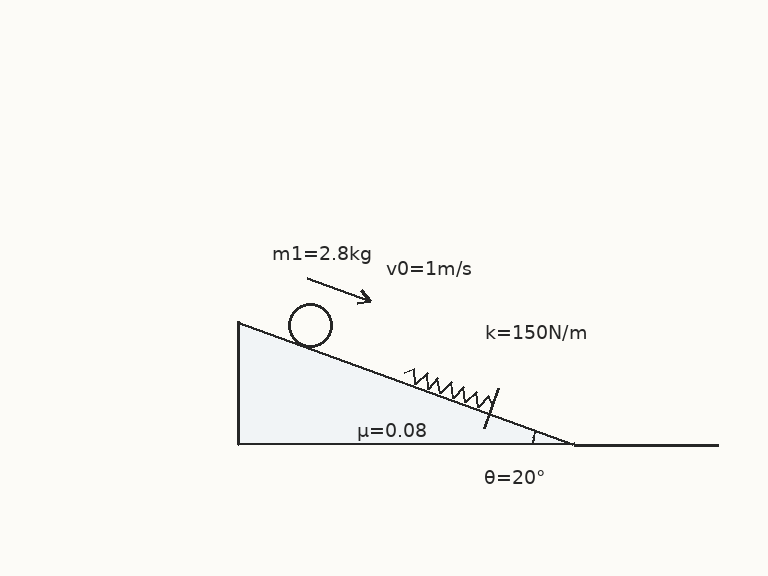ball: (286, 301, 334, 349)
ramp: (236, 320, 575, 446)
spring: (403, 367, 494, 409)
